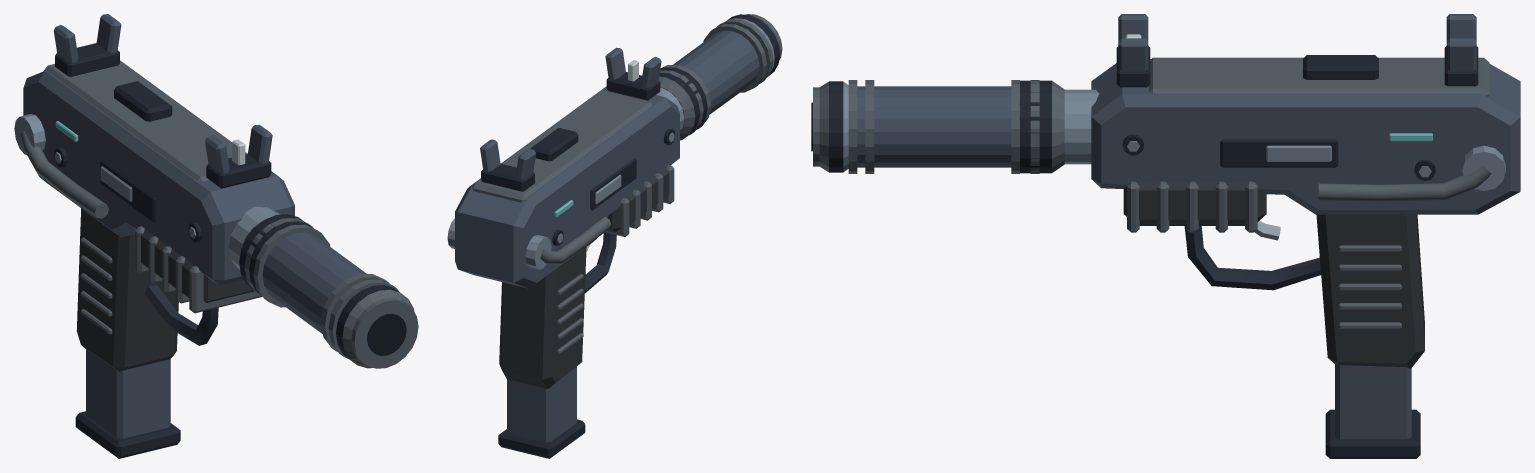
The model's file is Uzi.glb.
The picture shows the model from 3 angles, left to right: view 1: azimuth 30°, elevation 25°; view 2: azimuth 150°, elevation 25°; view 3: azimuth 270°, elevation 25°; orthographic projection. The views are drawn at different scales.
Parts seen in each view (by area): view 1: Main, Suppressor, Magazine, Stock; view 2: Main, Suppressor, Magazine, Stock; view 3: Main, Suppressor, Magazine, Stock.
Part boxes in pixels (bbox=[...]): Main: bbox=[23, 14, 294, 371]; Suppressor: bbox=[228, 206, 418, 368]; Magazine: bbox=[75, 349, 180, 458]; Stock: bbox=[14, 114, 108, 218]; Main: bbox=[455, 47, 679, 389]; Suppressor: bbox=[656, 14, 782, 140]; Magazine: bbox=[498, 366, 585, 458]; Stock: bbox=[447, 217, 611, 269]; Main: bbox=[1091, 14, 1520, 368]; Suppressor: bbox=[811, 80, 1099, 173]; Magazine: bbox=[1325, 364, 1420, 458]; Stock: bbox=[1318, 145, 1505, 201].
Size of the model in its own units: 0.5299 by 1.64 by 2.53.
1 material, 1 textured.
